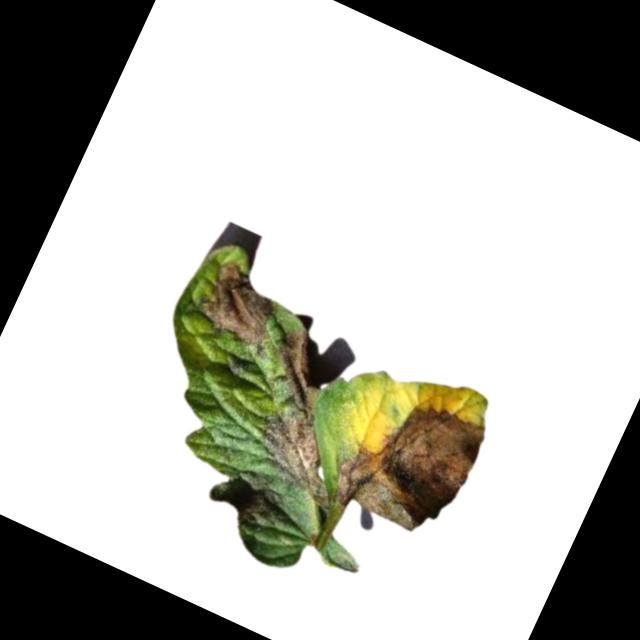Late_blight: (222, 322, 392, 513), (320, 374, 493, 550), (191, 254, 294, 354), (219, 467, 291, 533)
